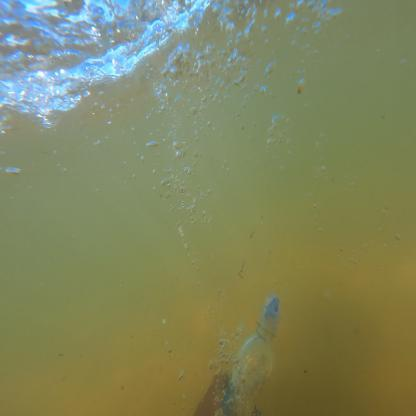Rác: (224, 286, 286, 396)
